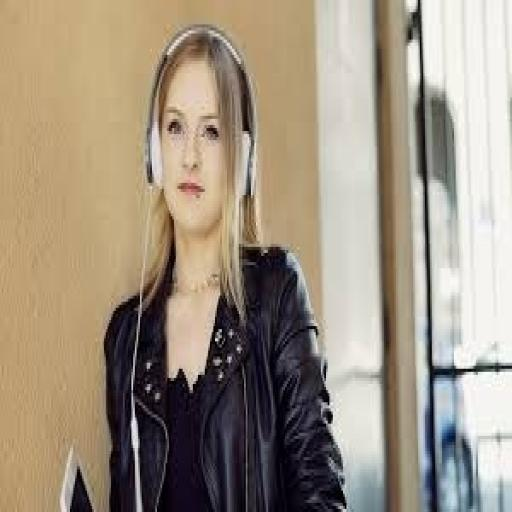listening_to_music: (102, 21, 350, 509)
